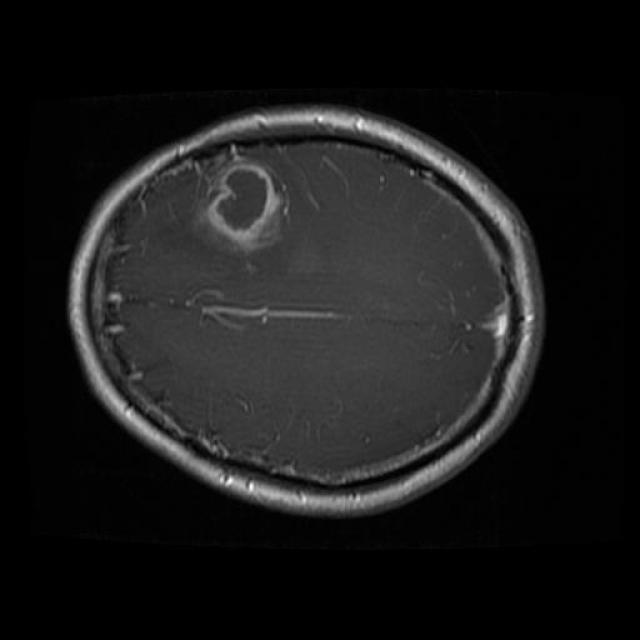Glioma: (203, 159, 283, 252)
